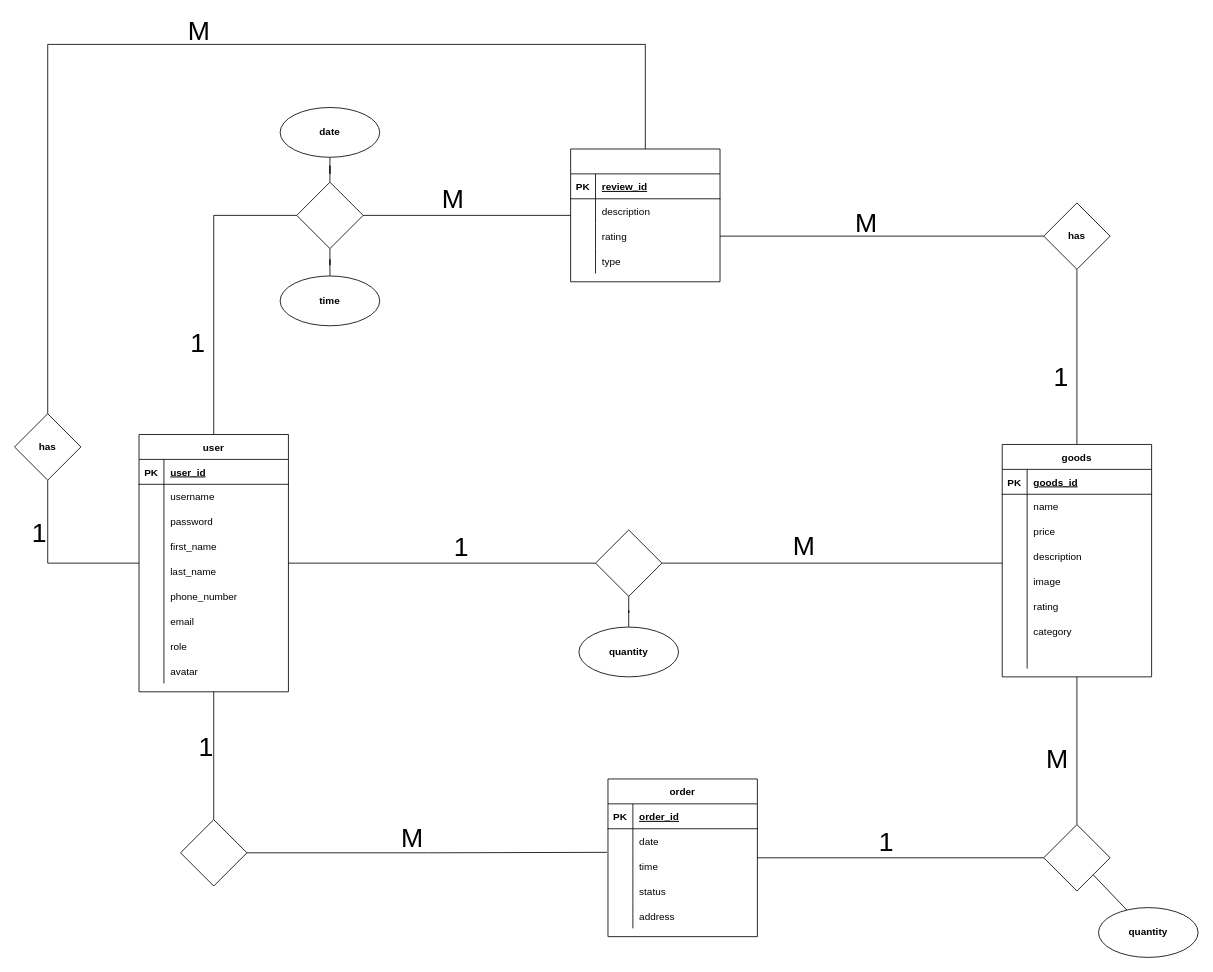
Image size: 1213x972. Some labels were removed from this diagram. Each missing label, with the box of its shape:
contains: (1043, 824, 1110, 891)
owns: (595, 529, 662, 596)
places: (180, 819, 247, 886)
posts: (296, 181, 363, 249)
user_review: (570, 148, 720, 282)
